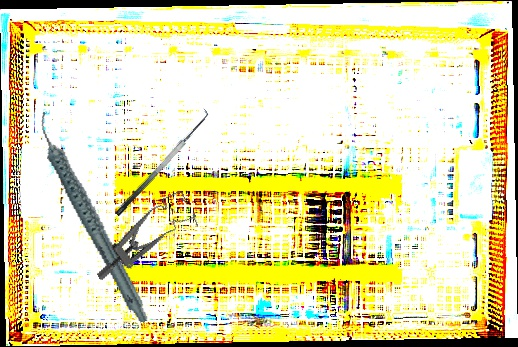Handpiece: (36, 99, 150, 335)
Spatula Surgical: (106, 105, 215, 218)
Speculum: (79, 188, 205, 283)
